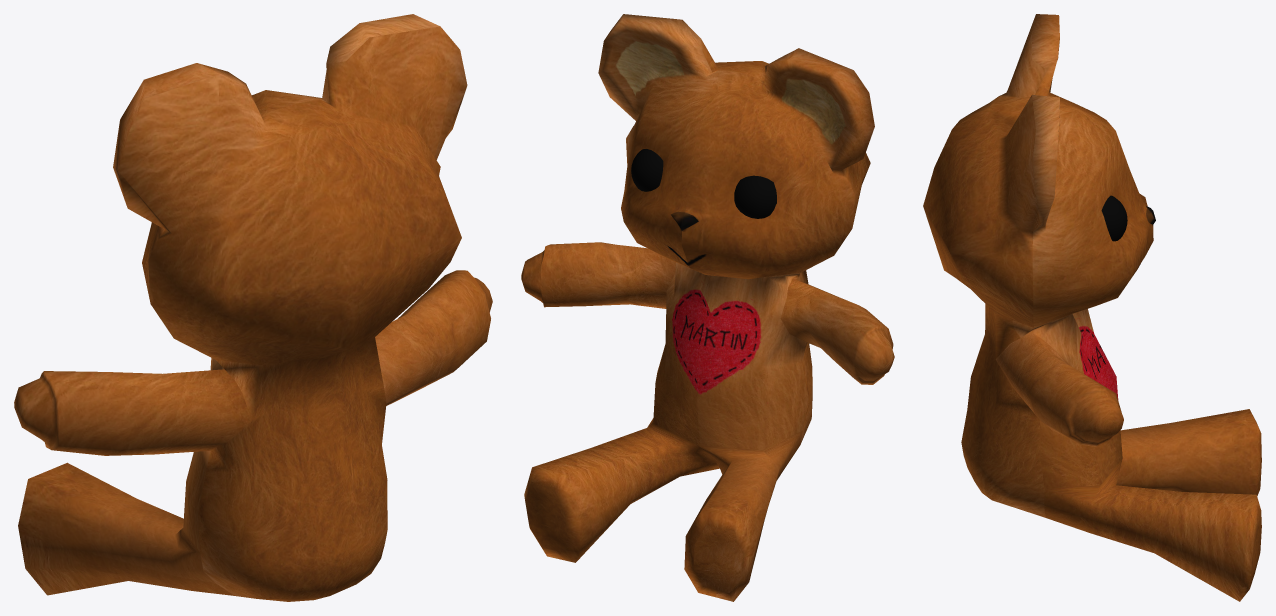
File: teddy.fbx
The picture shows the model from 3 angles, left to right: view 1: azimuth 30°, elevation 25°; view 2: azimuth 150°, elevation 25°; view 3: azimuth 270°, elevation 25°; orthographic projection. The views are drawn at different scales.
Visible parts, largest first — view 1: teddy1; view 2: teddy1, l_eye, r_eye; view 3: teddy1, r_eye.
Boxes of the visible parts, x1=… form: teddy1: x1=14, y1=14, x2=492, y2=601; teddy1: x1=521, y1=14, x2=894, y2=601; l_eye: x1=734, y1=175, x2=776, y2=218; r_eye: x1=631, y1=149, x2=663, y2=191; teddy1: x1=923, y1=14, x2=1261, y2=601; r_eye: x1=1101, y1=195, x2=1127, y2=241.
Bounding box in the file's own units: 13.28 × 16.28 × 10.21.
